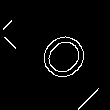O_SW: (22, 22, 88, 88)
